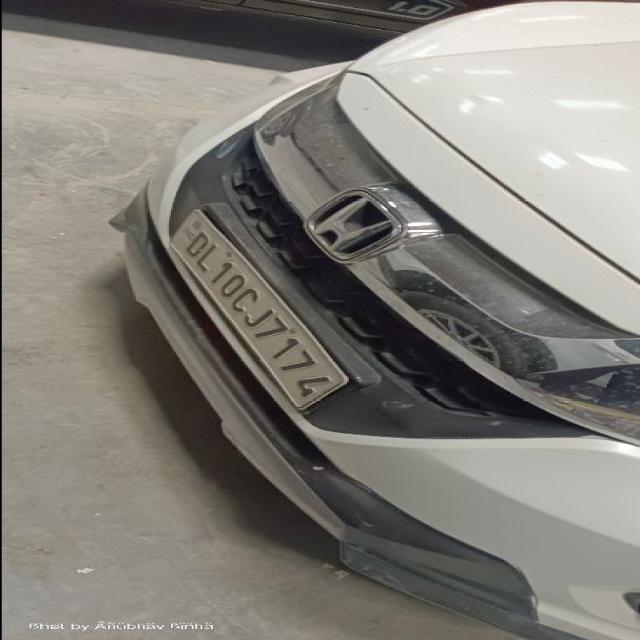license_plate: (111, 0, 636, 638), (164, 207, 352, 413)
